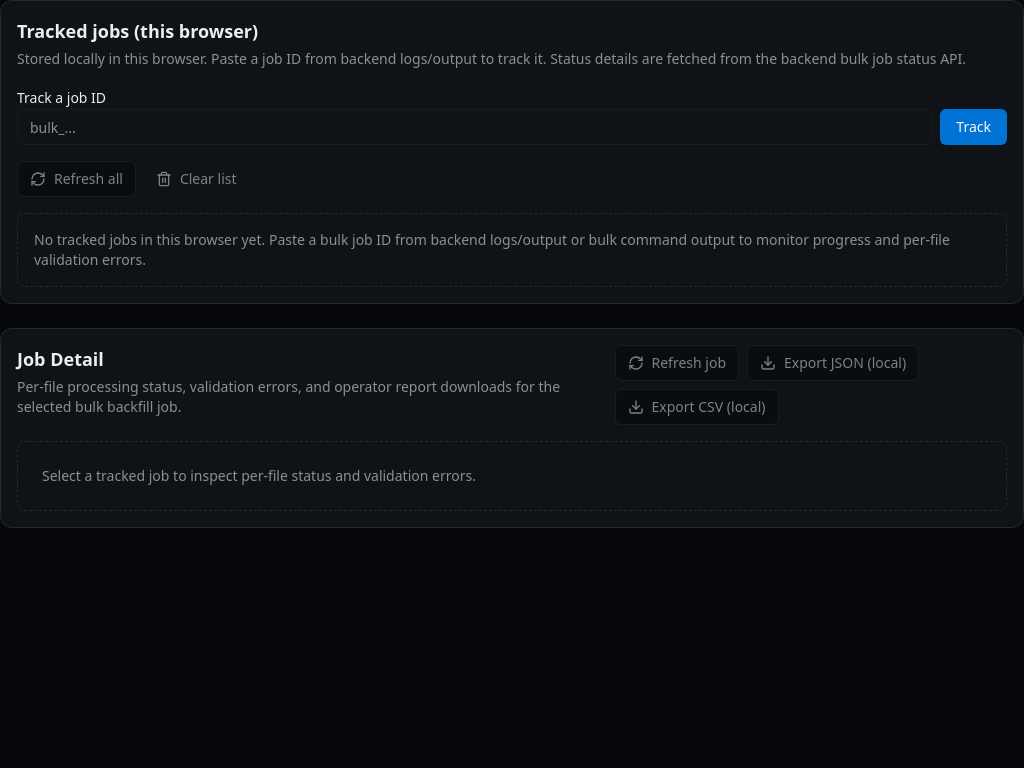
Scenario: AdminBulkBackfillMonitor › renders empty state and validates blank job IDs
The image size is (1024, 768).
Expected: the text "No tracked jobs in this browser yet" is shown, [34,230,950,269]
Expected: the text "Stored locally in this browser" is shown, [17,49,966,68]
Click the button "Track": [974, 127] box [940,109,1007,145]
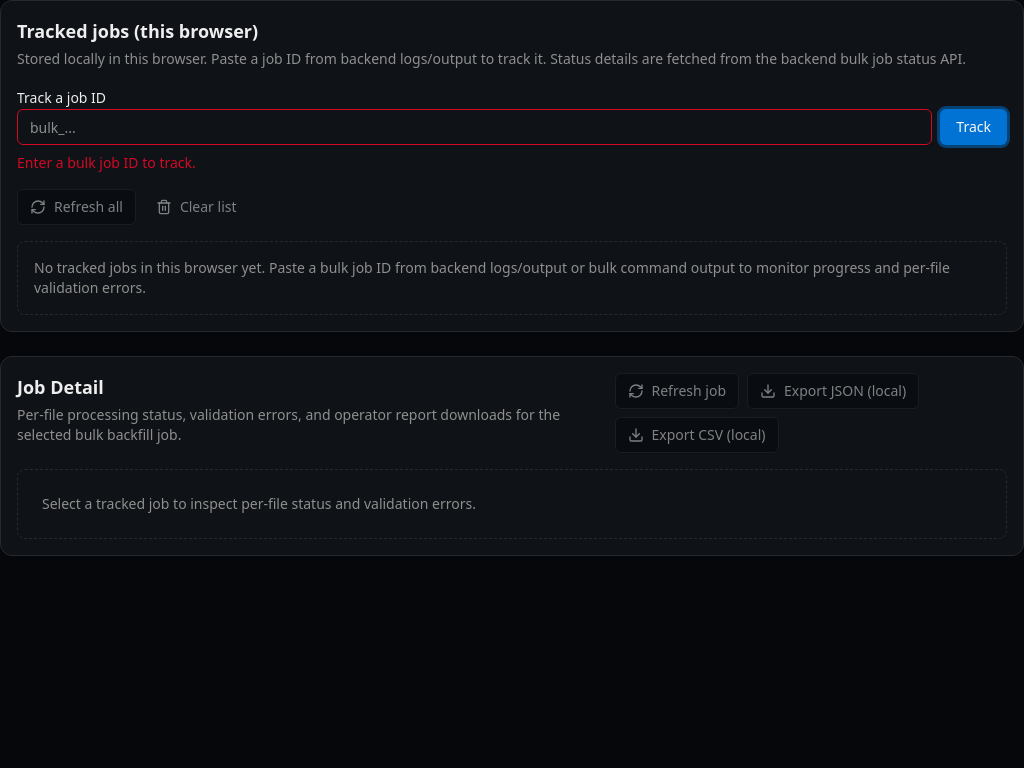
Expected: the message reads "Enter a bulk job ID to track.", [17,153,196,172]
In the field labelled "Track a job ID": [475, 127] box [17,109,932,145], type "bulk_fix"
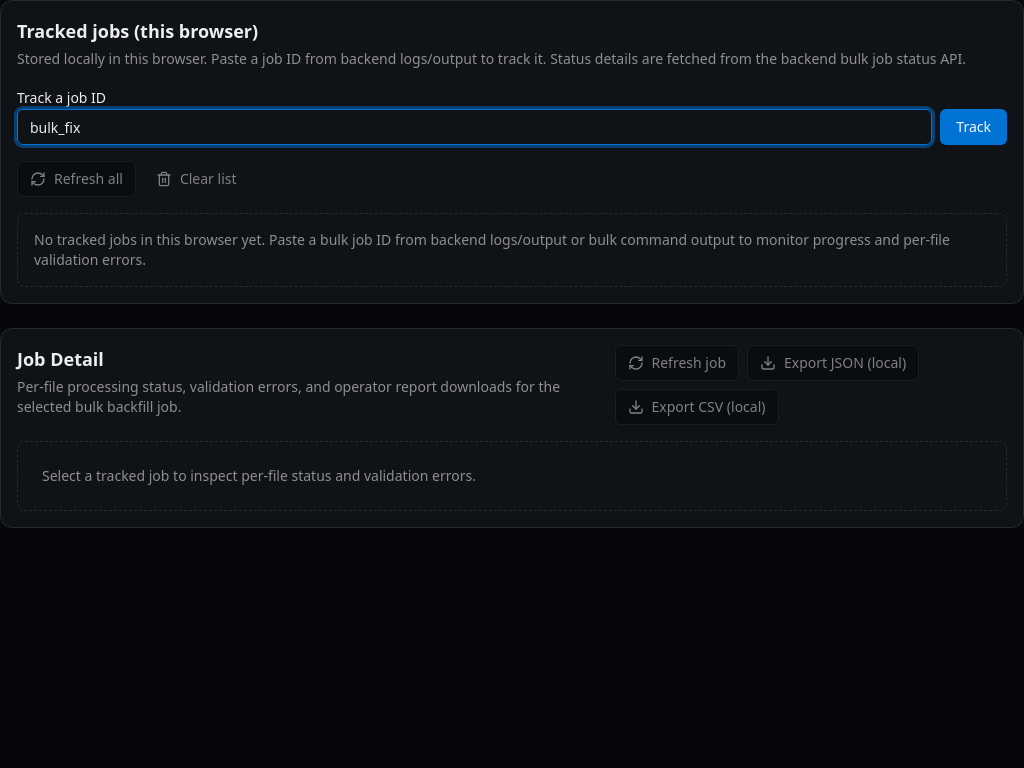
Expected: the message "Enter a bulk job ID to track." is gone
